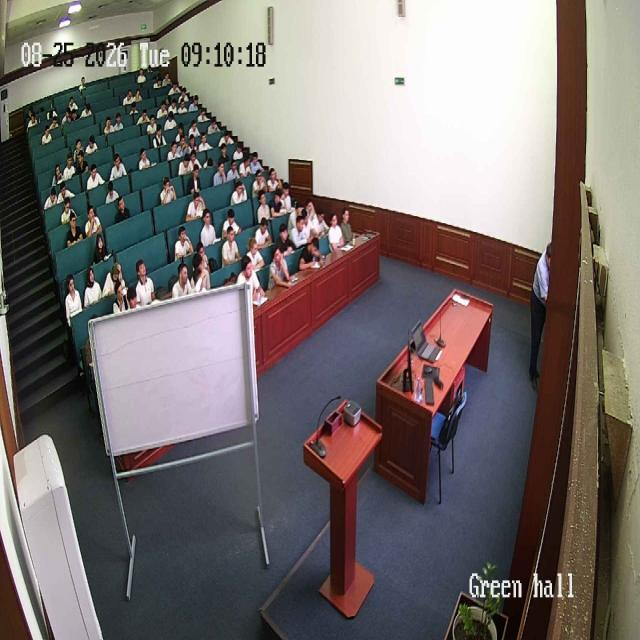person: (528, 242, 552, 391), (236, 255, 264, 305), (267, 243, 293, 289), (64, 273, 83, 328), (134, 258, 156, 305), (220, 224, 242, 268), (102, 260, 125, 300), (299, 235, 323, 273), (83, 265, 103, 309), (190, 254, 212, 294), (244, 236, 266, 276), (171, 260, 194, 298), (288, 213, 310, 251), (198, 207, 218, 248), (274, 222, 296, 259), (174, 225, 194, 262), (327, 212, 345, 252), (254, 219, 274, 254), (66, 212, 85, 248), (92, 231, 110, 268), (158, 175, 178, 207), (222, 207, 240, 241), (302, 203, 320, 237), (339, 206, 355, 244), (186, 192, 206, 222), (279, 180, 296, 215), (108, 280, 125, 314), (256, 190, 272, 226), (112, 195, 130, 225), (229, 178, 247, 207), (86, 164, 104, 193), (59, 148, 76, 178), (110, 154, 128, 181), (250, 168, 265, 199), (187, 168, 203, 197), (264, 162, 283, 186), (212, 159, 228, 187), (104, 180, 120, 207), (185, 90, 201, 117), (204, 112, 222, 136), (74, 146, 90, 172), (251, 148, 264, 179), (83, 131, 99, 156), (42, 184, 58, 208), (315, 201, 328, 230), (102, 114, 119, 136), (286, 200, 300, 226), (241, 151, 254, 178), (164, 109, 179, 132), (176, 150, 191, 173), (138, 148, 152, 172), (196, 127, 208, 154), (231, 136, 243, 163), (50, 165, 64, 188), (186, 127, 199, 151), (188, 148, 202, 170), (38, 123, 53, 143), (80, 100, 95, 120), (122, 85, 136, 106), (218, 125, 232, 146), (176, 132, 187, 158), (124, 290, 137, 312), (78, 68, 90, 91), (271, 186, 281, 212), (172, 120, 189, 135), (186, 117, 199, 136), (169, 78, 181, 98), (127, 101, 139, 120), (148, 114, 160, 133), (219, 143, 231, 162), (228, 155, 238, 177), (178, 84, 190, 102), (140, 104, 150, 125), (167, 141, 178, 160), (74, 134, 84, 154), (198, 106, 208, 125), (177, 95, 186, 116), (136, 66, 146, 84), (29, 111, 39, 129), (46, 117, 59, 130), (156, 103, 168, 117), (161, 70, 171, 86), (67, 89, 75, 108), (150, 74, 160, 88), (170, 98, 178, 115), (62, 106, 70, 123), (114, 111, 123, 126), (134, 84, 142, 100)
